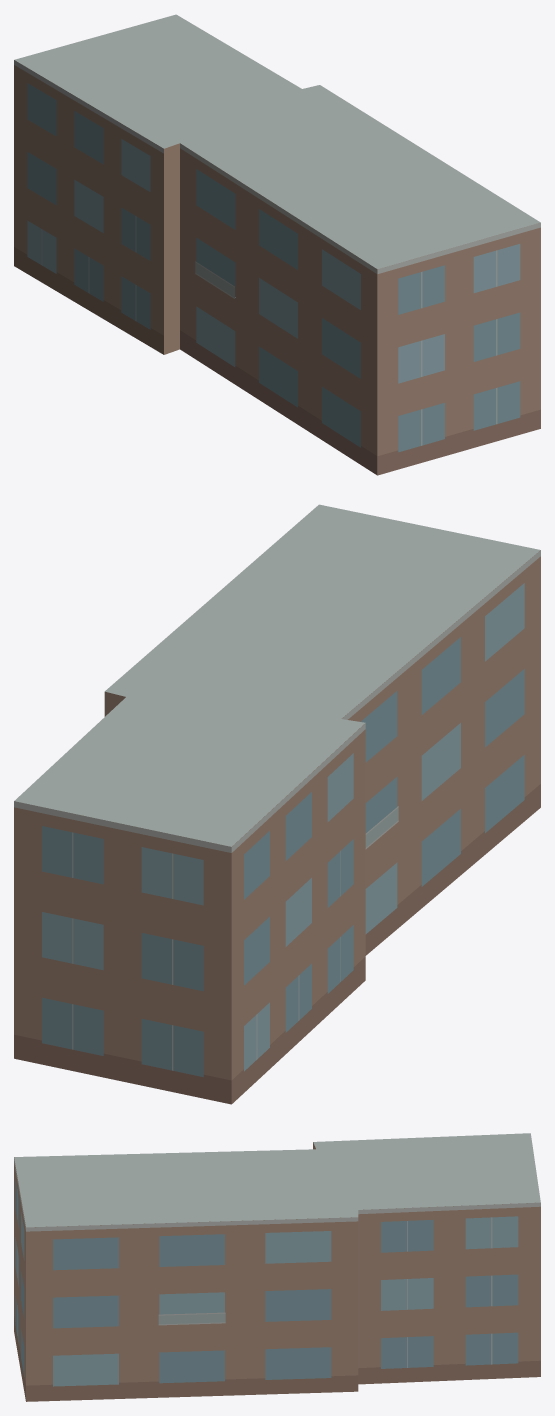
Rendered from survey-upis-32639398.glb.
The picture shows the model from 3 angles, top to bottom: view 1: azimuth 30°, elevation 25°; view 2: azimuth 150°, elevation 25°; view 3: azimuth 270°, elevation 25°; orthographic projection. The views are drawn at different scales.
Visible parts, largest first — view 1: survey-upis-32639398.tmp; view 2: survey-upis-32639398.tmp; view 3: survey-upis-32639398.tmp.
Boxes of the visible parts, x1,y1,x2,y2 form: survey-upis-32639398.tmp: [14, 14, 540, 475]; survey-upis-32639398.tmp: [14, 504, 540, 1104]; survey-upis-32639398.tmp: [14, 1133, 540, 1401].
Bounding box in the file's own units: 11.72 × 10.1 × 27.66.
